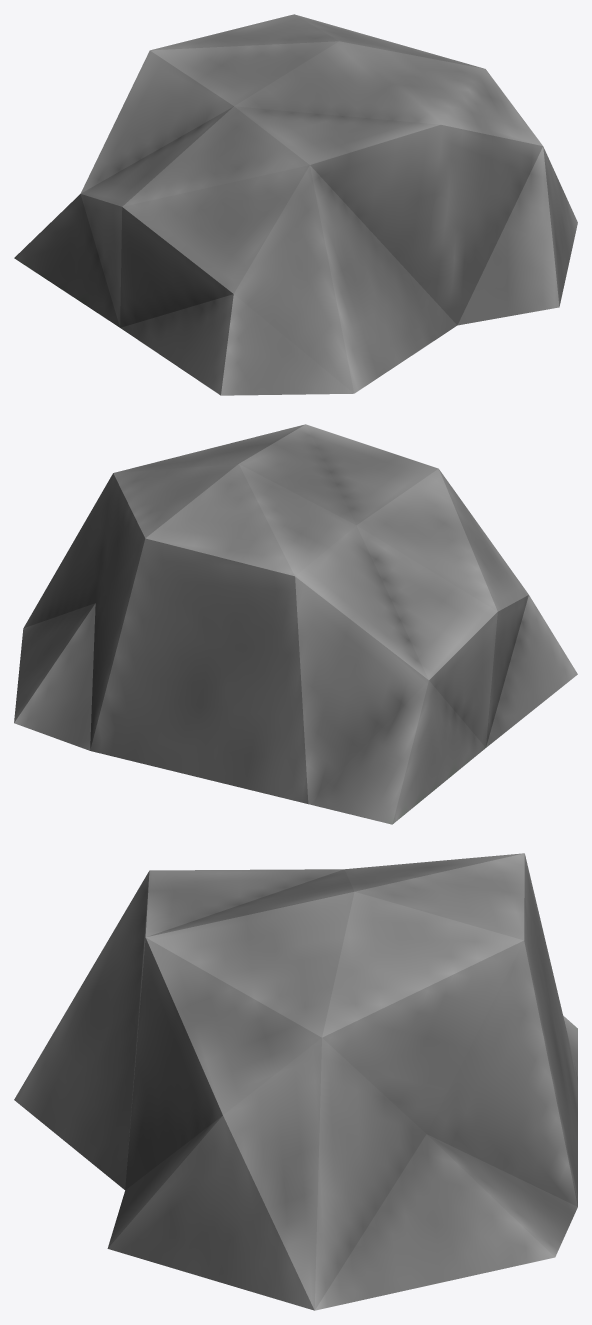
The model's file is GJ_Decor_Exterior_Rock_01.fbx.
3 renders of one model, top to bottom at view 1: azimuth 30°, elevation 25°; view 2: azimuth 150°, elevation 25°; view 3: azimuth 270°, elevation 25°, orthographic. The views are drawn at different scales.
Visible parts, largest first — view 1: GJ_Decor_Exterior_Rock_01; view 2: GJ_Decor_Exterior_Rock_01; view 3: GJ_Decor_Exterior_Rock_01.
Boxes of the visible parts, x1,y1,x2,y2 form: GJ_Decor_Exterior_Rock_01: (14,14,577,395); GJ_Decor_Exterior_Rock_01: (14,424,577,824); GJ_Decor_Exterior_Rock_01: (14,853,577,1310).
Bounding box in the file's own units: 3.35 × 1.56 × 2.83.
1 material, 1 textured.
